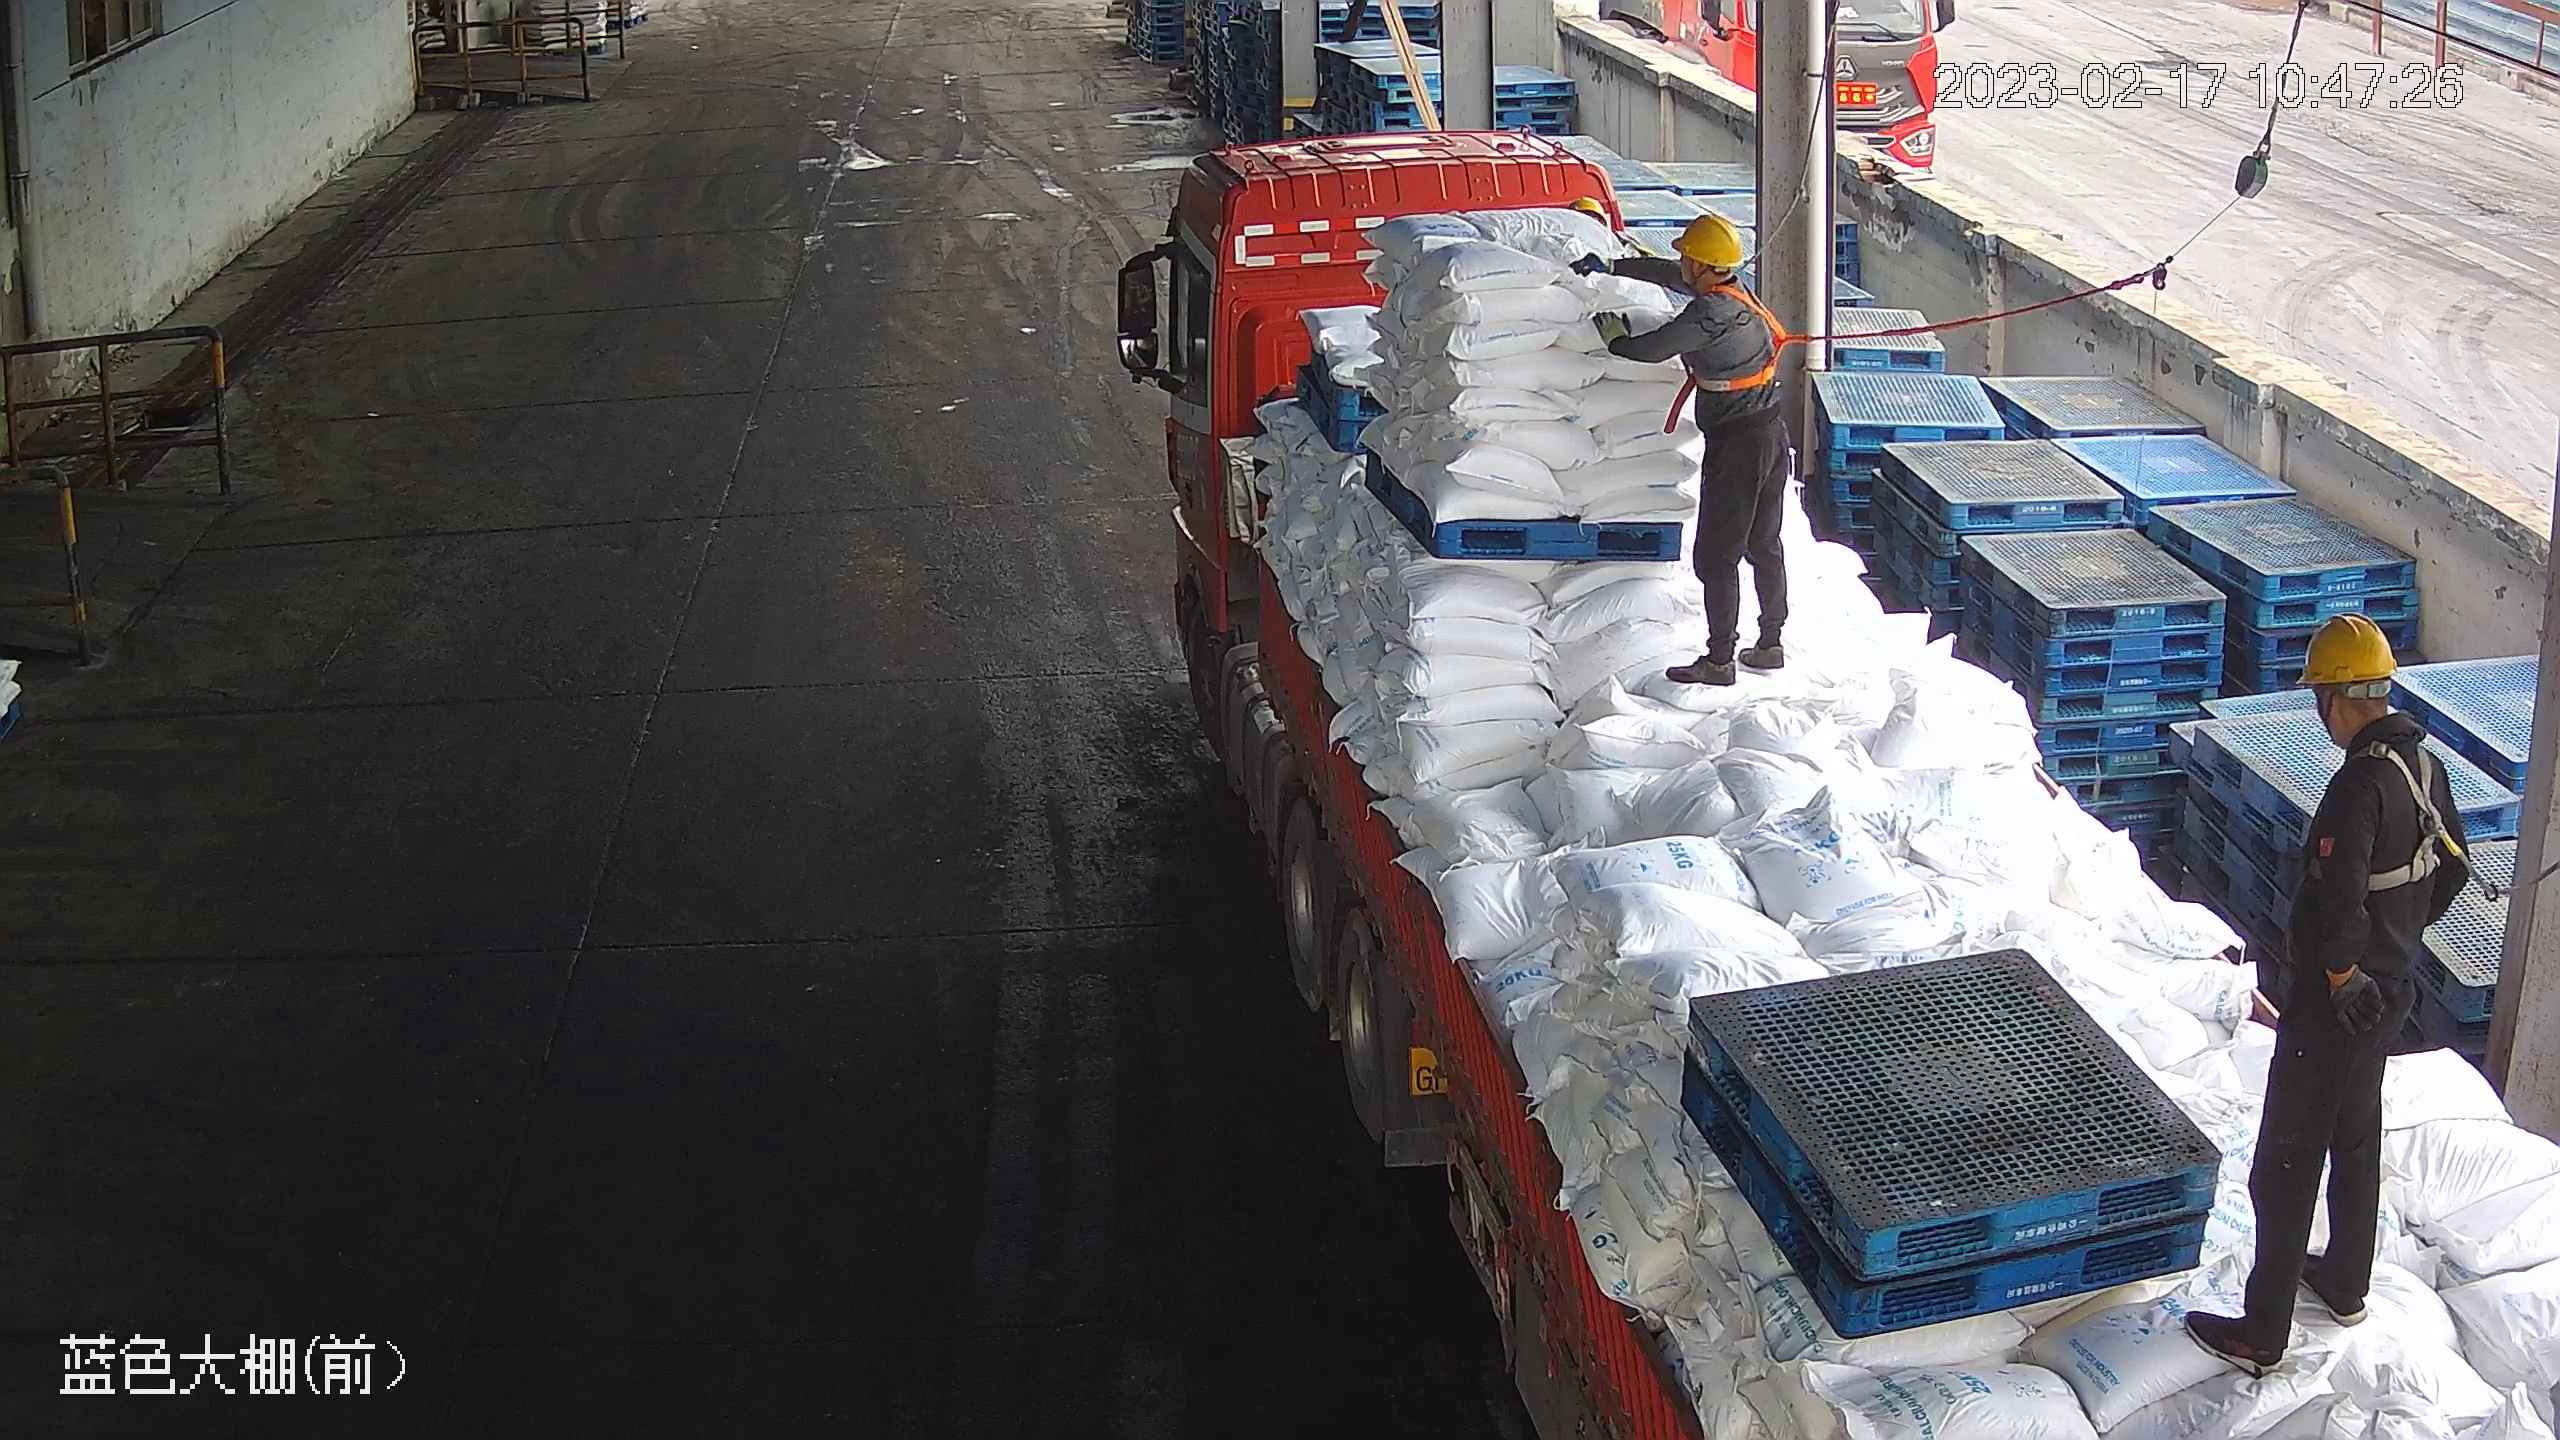belt: (2342, 742, 2470, 896), (1682, 280, 1813, 394)
head: (2285, 611, 2458, 816), (1663, 215, 1772, 341)
helmet: (2293, 612, 2399, 681), (1668, 215, 1744, 267)
people: (2182, 612, 2475, 1381), (1573, 216, 1792, 689)
truck: (1164, 130, 2560, 1440)
